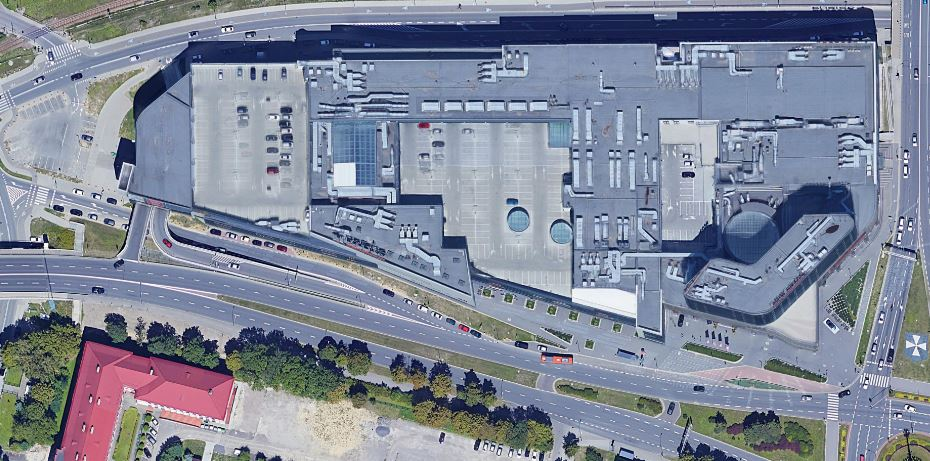block of flats: (43, 339, 243, 461)
shopping_center: (110, 34, 887, 343)
